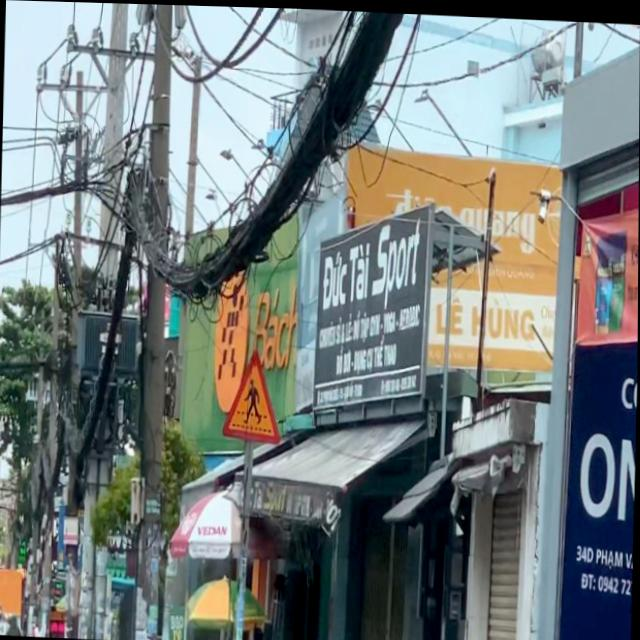Nguoi di bo cat ngang: (221, 341, 285, 451)
